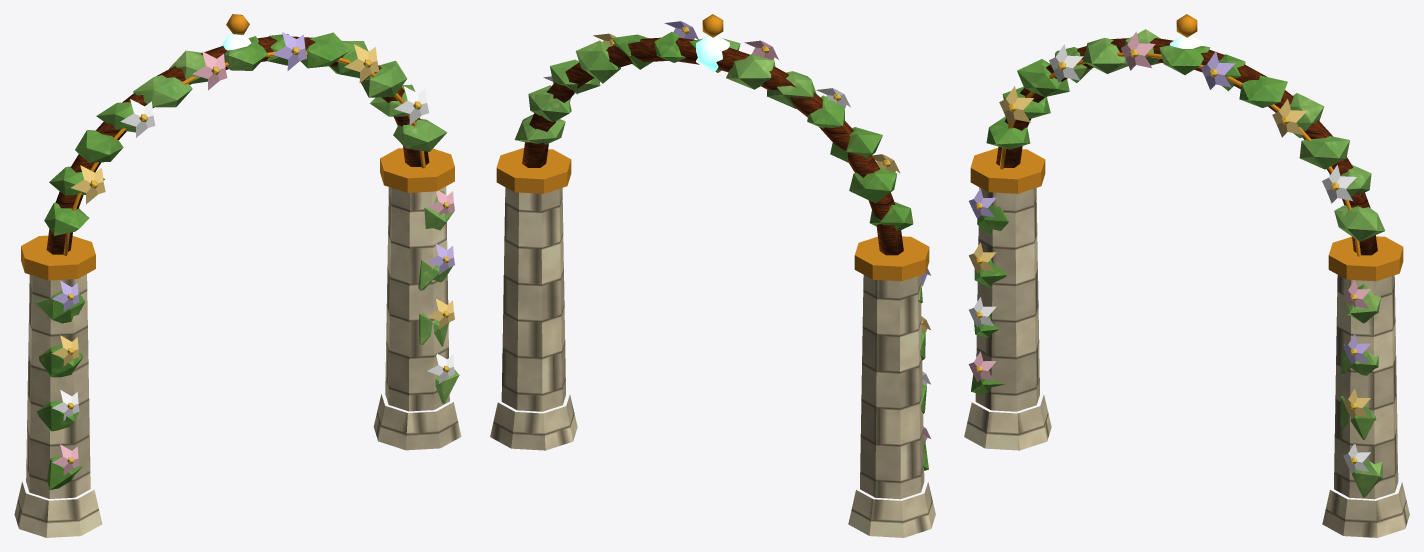
File: garden_arch_sky.glb
3 renders of one model, left to right at view 1: azimuth 30°, elevation 25°; view 2: azimuth 150°, elevation 25°; view 3: azimuth 330°, elevation 25°, orthographic.
Visible parts, largest first — view 1: garden_arch_sky; view 2: garden_arch_sky; view 3: garden_arch_sky.
Boxes of the visible parts, x1,y1,x2,y2 form: garden_arch_sky: (14, 14, 461, 537); garden_arch_sky: (490, 14, 935, 537); garden_arch_sky: (964, 14, 1409, 537).
Size of the model in its own units: 3.78 by 3.8 by 0.68.
Materials: 6 (3 with a texture image).
